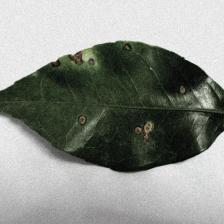canker: (46, 35, 188, 140)
